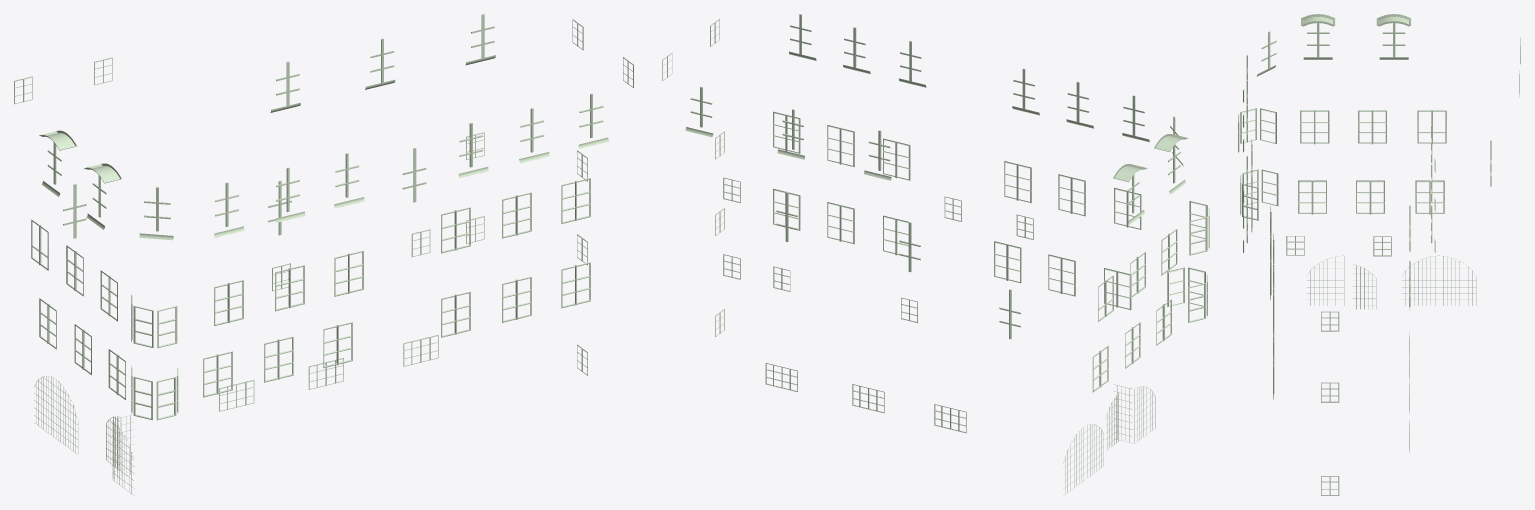
The model's file is FairyTale162.gltf.
3 renders of one model, left to right at view 1: azimuth 30°, elevation 25°; view 2: azimuth 150°, elevation 25°; view 3: azimuth 270°, elevation 25°, orthographic. The views are drawn at different scales.
Visible parts, largest first — view 1: HouseLG01_Mullions_Wood; view 2: HouseLG01_Mullions_Wood; view 3: HouseLG01_Mullions_Wood.
Part boxes in pixels (x1,y1,x2,y2): HouseLG01_Mullions_Wood: (14,14,633,495); HouseLG01_Mullions_Wood: (662,14,1209,495); HouseLG01_Mullions_Wood: (1238,14,1520,495).
Size of the model in its own units: 18.79 by 11.31 by 10.42.
